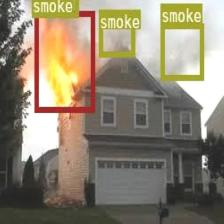fire: (33, 9, 94, 111)
smoke: (160, 22, 203, 80), (98, 9, 134, 55), (32, 0, 78, 16)
